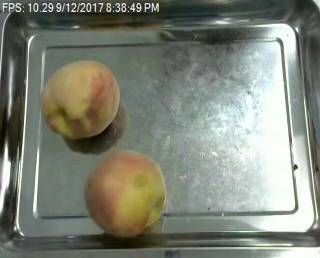Peach: (85, 149, 167, 237), (40, 59, 122, 140)
